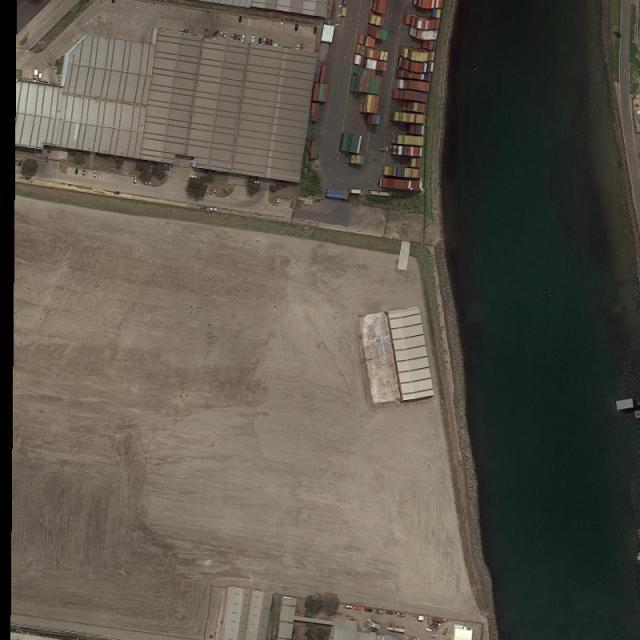vehicle: (374, 608, 384, 614), (345, 604, 353, 610), (353, 606, 362, 611), (33, 69, 38, 78), (313, 26, 318, 35), (364, 608, 373, 612), (82, 168, 86, 177), (262, 37, 266, 46), (198, 206, 207, 210), (276, 198, 280, 207), (74, 167, 79, 174), (279, 21, 284, 28), (430, 634, 438, 638), (94, 170, 98, 178), (242, 34, 246, 42), (234, 31, 238, 39), (230, 31, 234, 39), (266, 38, 270, 46), (294, 24, 298, 32), (209, 187, 213, 195), (210, 207, 218, 211), (189, 174, 197, 178), (148, 178, 152, 186), (114, 190, 120, 195), (251, 35, 255, 42), (258, 38, 262, 45), (296, 42, 300, 49), (219, 30, 222, 38), (134, 176, 137, 184), (238, 16, 242, 22), (224, 32, 227, 39), (270, 39, 273, 46), (71, 638, 75, 640), (111, 1, 114, 3), (77, 639, 79, 640)
